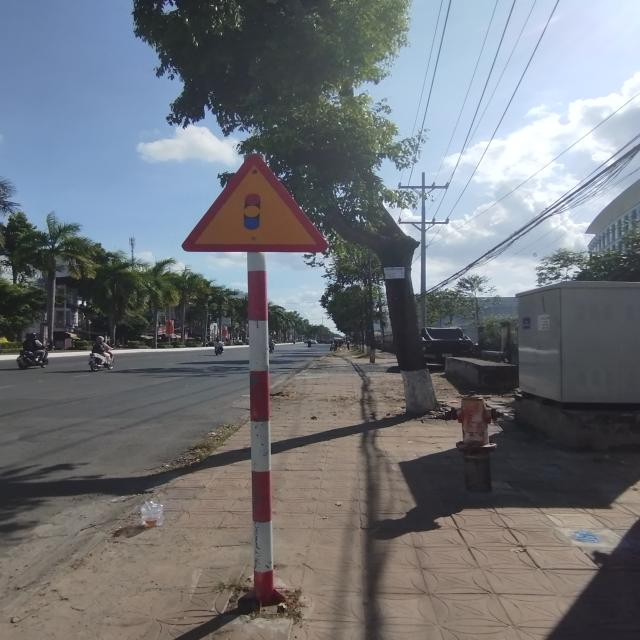Duong_Co_Go_Giam_Toc: (180, 152, 328, 252)
